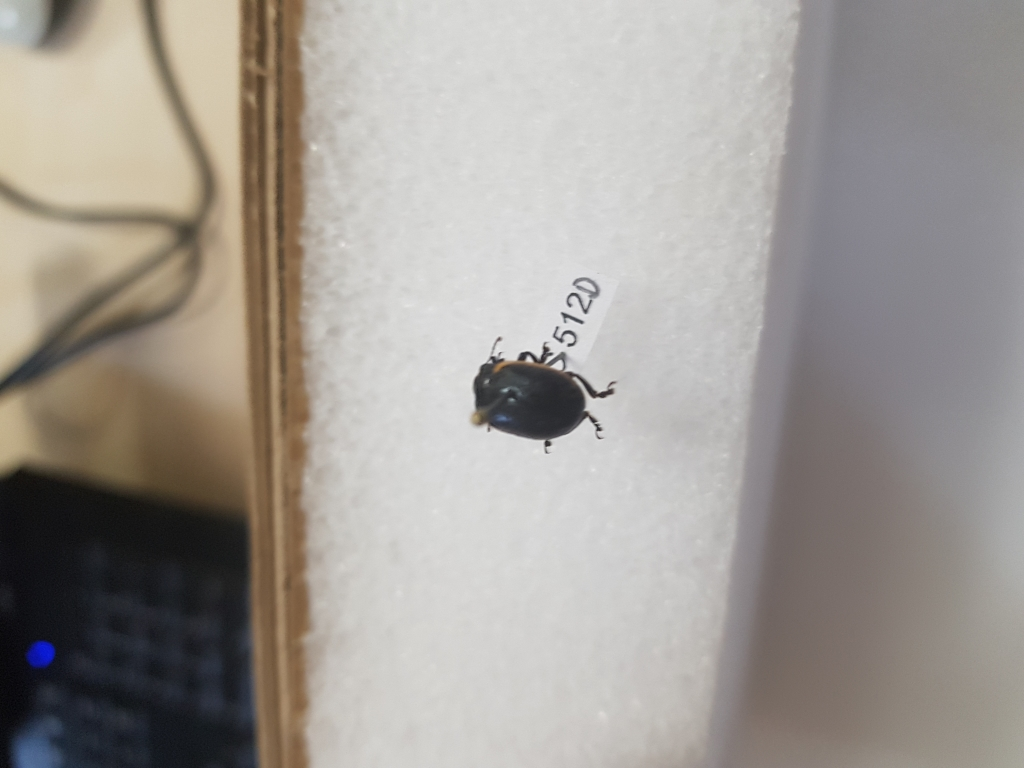Chrysolina_gypsophila: (471, 333, 626, 458)
